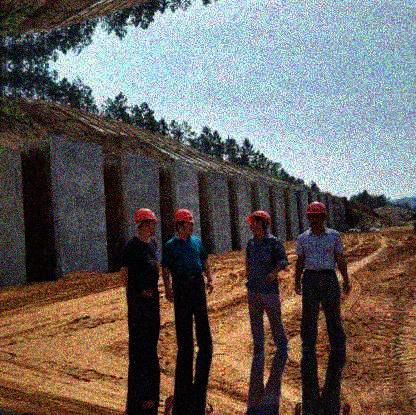helmet: (245, 209, 271, 233), (135, 208, 158, 235), (173, 207, 195, 235), (306, 201, 327, 227)
